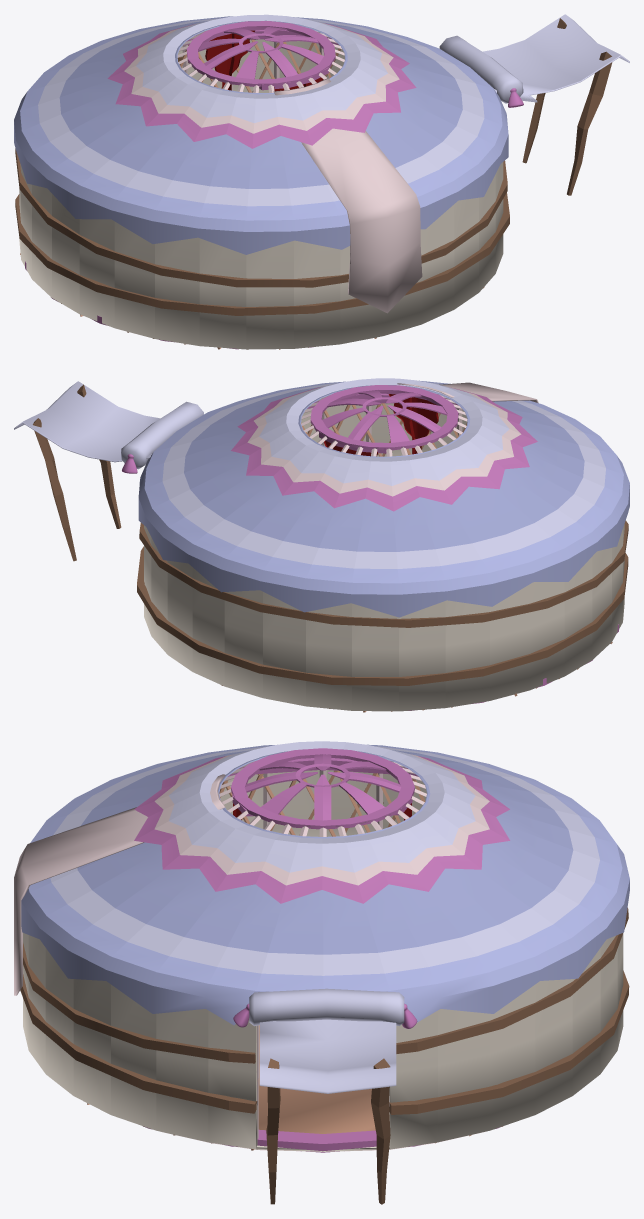
File: yurte_to_enter.fbx
3 renders of one model, top to bottom at view 1: azimuth 30°, elevation 25°; view 2: azimuth 150°, elevation 25°; view 3: azimuth 270°, elevation 25°, orthographic. The views are drawn at different scales.
Visible parts, largest first — view 1: polySurface147, polySurface155, polySurface116, polySurface213, polySurface228, polySurface117, polySurface156, polySurface153, polySurface154, polySurface219, polySurface218, polySurface227 (+1 smaller); view 2: polySurface147, polySurface155, polySurface116, polySurface228, polySurface117, polySurface156, polySurface154, polySurface153, polySurface219, polySurface217, polySurface213, polySurface227 (+1 smaller); view 3: polySurface147, polySurface155, polySurface116, polySurface228, polySurface117, polySurface213, polySurface156, polySurface219, polySurface154, polySurface153, polySurface215, polySurface217 (+4 smaller).
Part boxes in pixels (x1,y1,x2,y2): polySurface147: [14, 16, 508, 254]; polySurface155: [19, 39, 503, 349]; polySurface116: [107, 14, 416, 148]; polySurface213: [273, 78, 422, 313]; polySurface228: [483, 14, 629, 102]; polySurface117: [15, 193, 509, 315]; polySurface156: [15, 57, 507, 287]; polySurface153: [198, 27, 323, 79]; polySurface154: [186, 21, 335, 86]; polySurface219: [439, 35, 523, 103]; polySurface218: [567, 51, 612, 195]; polySurface227: [177, 28, 344, 92]; polySurface147: [138, 380, 629, 617]; polySurface155: [144, 403, 624, 711]; polySurface116: [231, 378, 537, 511]; polySurface228: [14, 381, 159, 462]; polySurface117: [137, 546, 628, 685]; polySurface156: [139, 520, 628, 627]; polySurface154: [310, 385, 458, 450]; polySurface153: [322, 390, 447, 442]; polySurface219: [121, 401, 203, 469]; polySurface217: [33, 418, 76, 561]; polySurface213: [397, 382, 538, 403]; polySurface227: [301, 394, 467, 456]; polySurface147: [21, 744, 629, 1025]; polySurface155: [23, 770, 623, 1151]; polySurface116: [134, 741, 510, 903]; polySurface228: [259, 1019, 396, 1093]; polySurface117: [20, 970, 629, 1114]; polySurface213: [14, 774, 225, 995]; polySurface156: [23, 802, 628, 1063]; polySurface219: [249, 988, 404, 1026]; polySurface154: [231, 748, 414, 829]; polySurface153: [244, 754, 401, 820]; polySurface215: [143, 1126, 500, 1152]; polySurface217: [371, 1058, 390, 1204].
Bounding box in the file's own units: 29.62 × 10.69 × 23.08.
